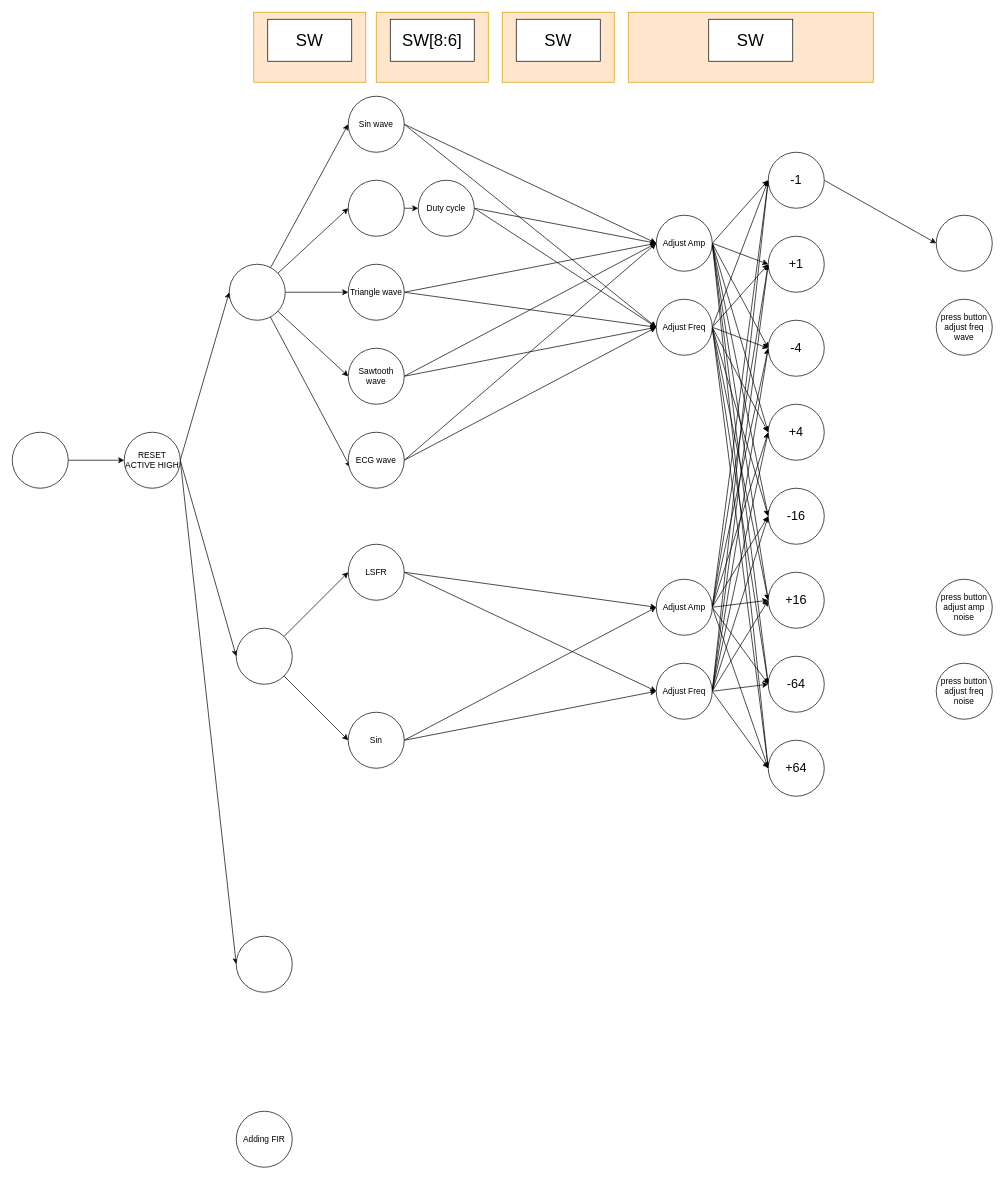
The diagram is 1005 pixels wide and 1180 high, and some of its shapes have lost their labels. The shapes that lost their labels are listed below. From the top down, each one's centre as x and y in pixels, then its label:
At point 376,208: "Square wave".
At point 964,243: "press button adjust amp wave".
At point 257,292: "Select Mode Waveform".
At point 40,460: "Power On".
At point 264,656: "Select Mode Noise".
At point 264,964: "Adding Noise".
